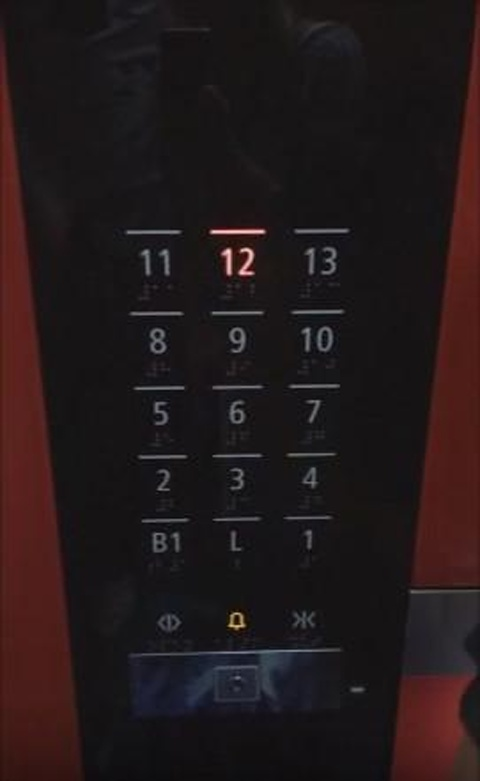1: (284, 517, 341, 573)
10: (288, 305, 347, 374)
11: (121, 226, 184, 296)
12: (207, 226, 270, 297)
13: (290, 225, 350, 296)
2: (131, 452, 193, 522)
3: (211, 451, 267, 517)
4: (286, 451, 342, 517)
5: (130, 382, 188, 448)
6: (207, 382, 270, 449)
7: (287, 380, 343, 446)
8: (126, 307, 186, 376)
9: (205, 306, 267, 375)
B1: (133, 515, 194, 581)
L: (207, 516, 266, 579)
alarm: (209, 596, 263, 648)
bt_keyhole: (208, 661, 262, 704)
close: (279, 596, 330, 650)
open: (140, 597, 195, 646)
